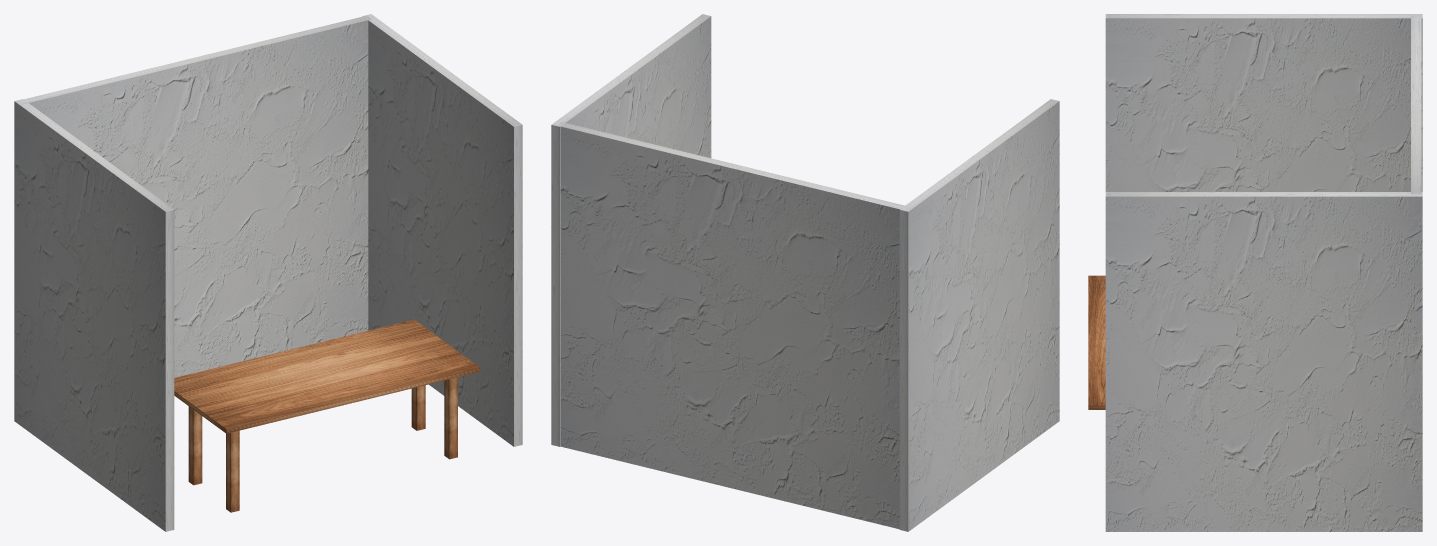
Rendered from stand.obj.
3 renders of one model, left to right at view 1: azimuth 30°, elevation 25°; view 2: azimuth 150°, elevation 25°; view 3: azimuth 270°, elevation 25°, orthographic. The views are drawn at different scales.
Visible parts, largest first — view 1: Box008, Box010, Box009, Box003, Box006, Box005, Box007, Box004; view 2: Box008, Box010, Box009; view 3: Box009, Box010, Box003, Box008.
Part boxes in pixels (left/top/right/bottom): Box008: left=19, top=15, right=371, bottom=377; Box010: left=14, top=99, right=174, bottom=531; Box009: left=362, top=14, right=522, bottom=446; Box003: left=174, top=319, right=479, bottom=433; Box006: left=226, top=430, right=239, bottom=512; Box005: left=444, top=377, right=457, bottom=459; Box007: left=188, top=406, right=202, bottom=485; Box004: left=411, top=385, right=425, bottom=430; Box008: left=556, top=122, right=910, bottom=529; Box010: left=899, top=99, right=1059, bottom=531; Box009: left=551, top=14, right=711, bottom=446; Box009: left=1105, top=192, right=1422, bottom=531; Box010: left=1105, top=14, right=1422, bottom=191; Box003: left=1088, top=275, right=1105, bottom=409; Box008: left=1411, top=15, right=1421, bottom=194.
Size of the model in its own units: 123 by 105 by 94.95.
